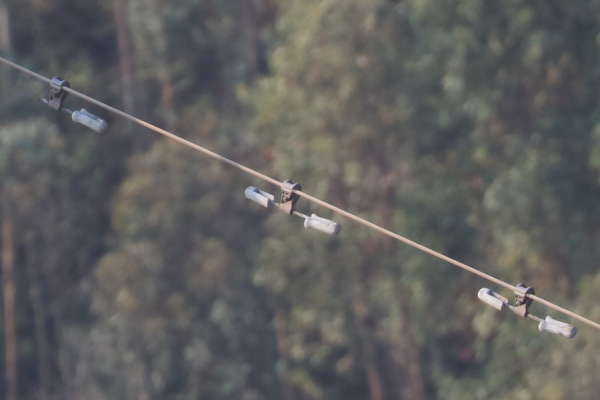damper_defect: (239, 173, 342, 237), (473, 279, 578, 339), (35, 74, 107, 136)
